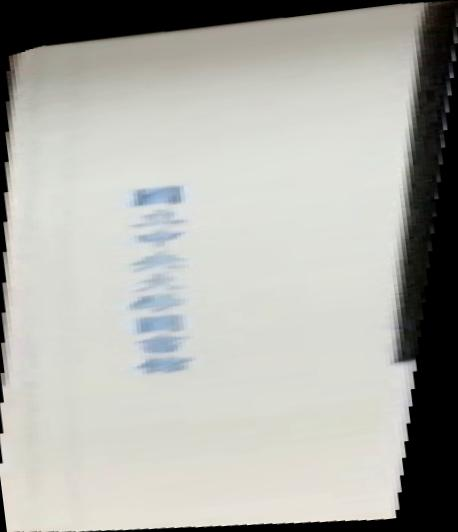backward: (1, 1, 458, 532)
